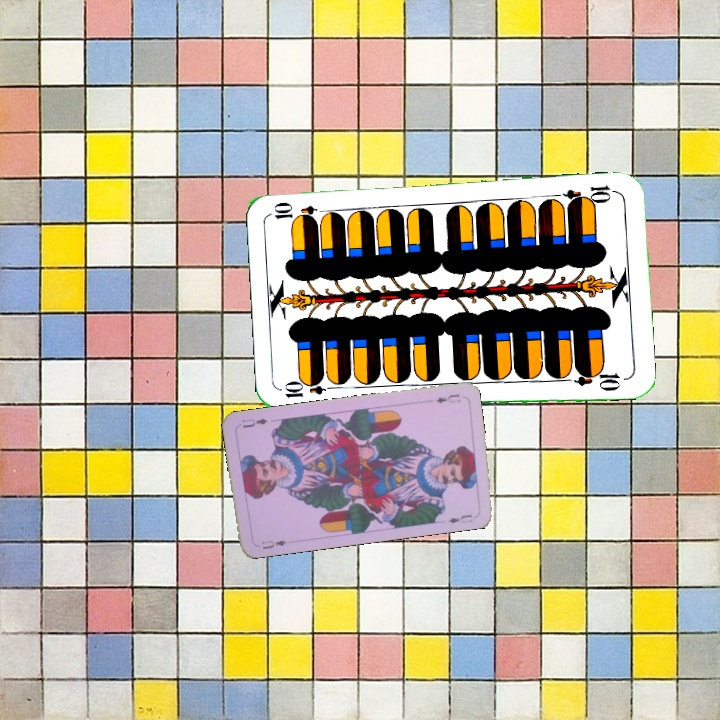E10: (560, 181, 619, 208), (280, 380, 339, 401)
EU: (257, 536, 289, 552), (431, 390, 463, 406)
